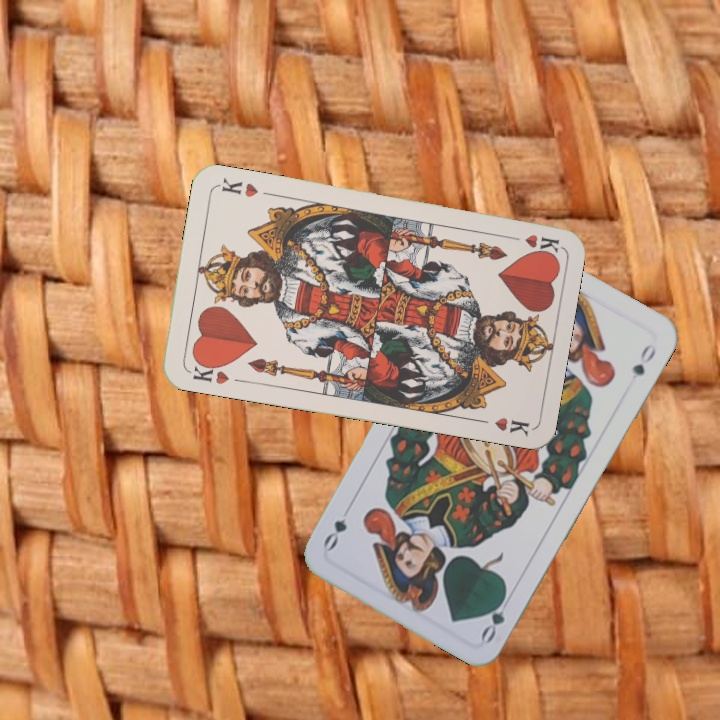GO: (477, 587, 513, 645)
HK: (502, 230, 561, 256), (185, 356, 232, 387)
